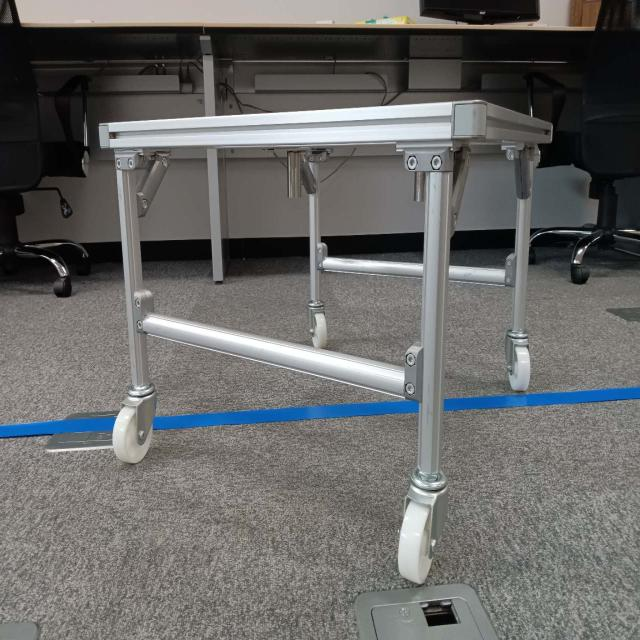door: (442, 92, 538, 228)
side: (112, 101, 440, 406)
